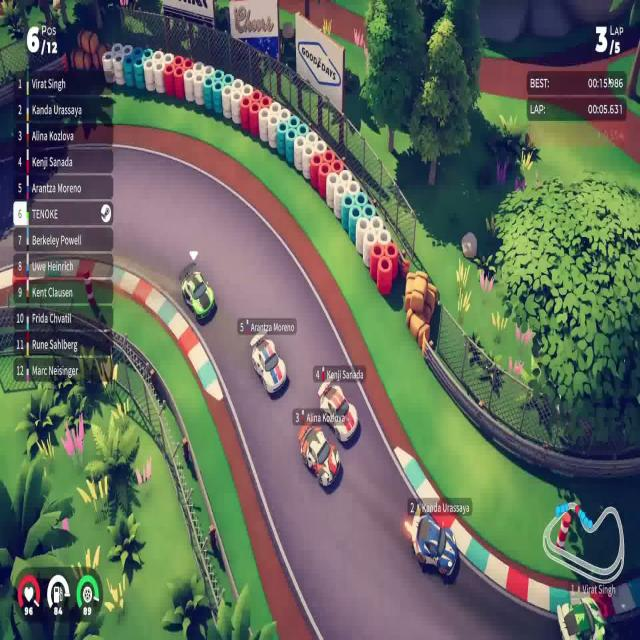car: (404, 505, 460, 583), (298, 422, 340, 488), (317, 378, 358, 443), (249, 331, 287, 395), (180, 268, 216, 322)
